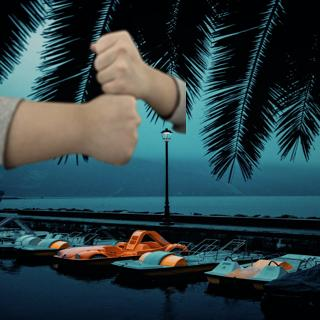CAREFUL: (11, 29, 181, 169)
